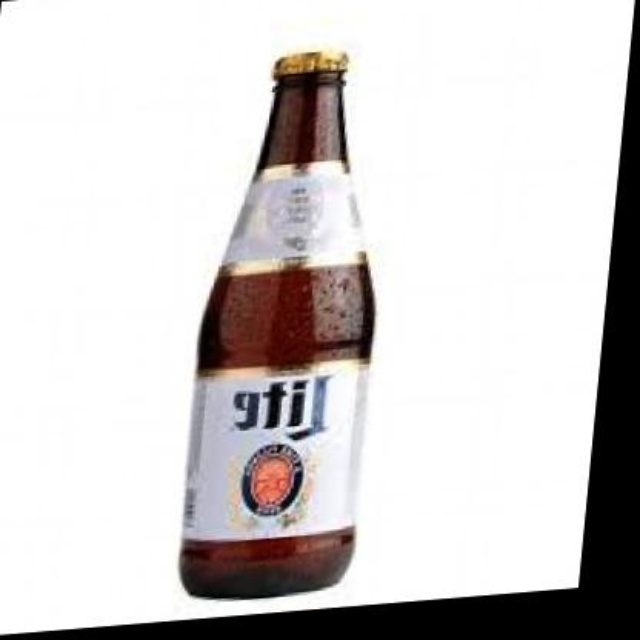trash: (180, 52, 372, 597)
